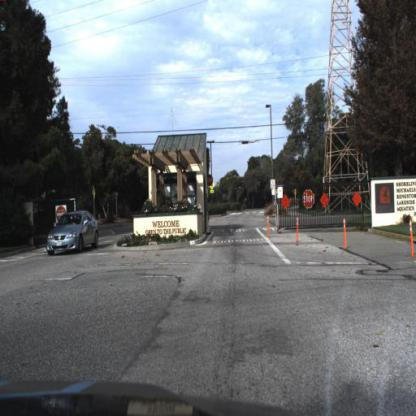car: (45, 211, 101, 257)
